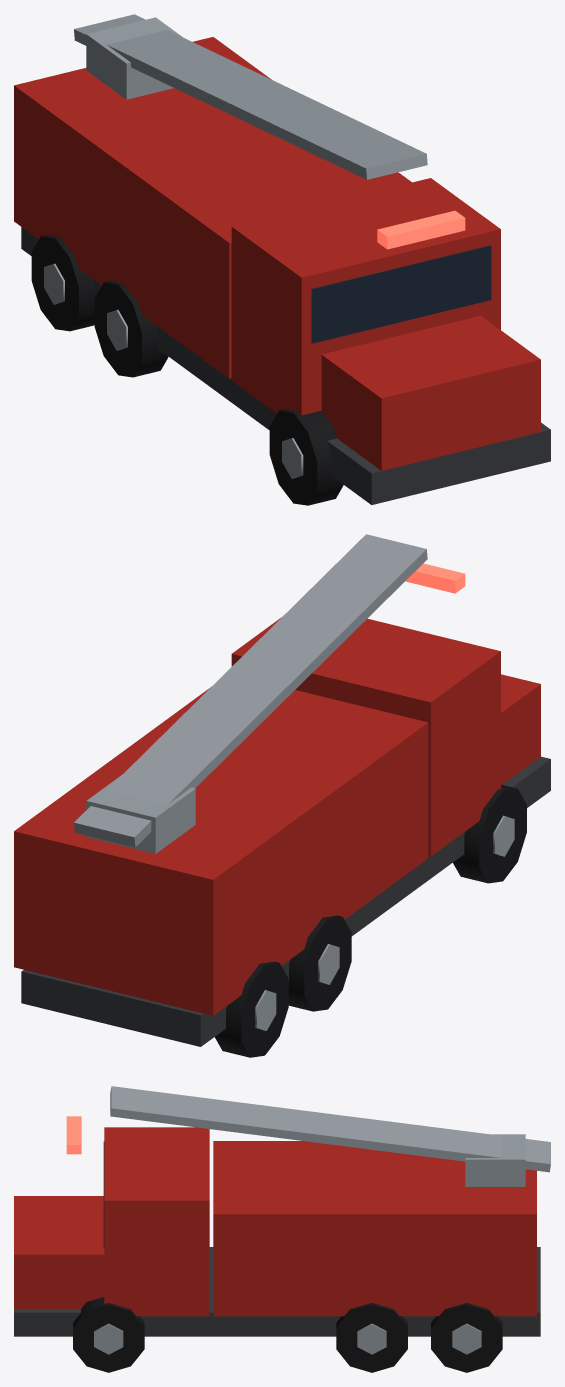
Rendered from veh_ground_fire_truck_a05.glb.
3 renders of one model, top to bottom at view 1: azimuth 30°, elevation 25°; view 2: azimuth 150°, elevation 25°; view 3: azimuth 270°, elevation 25°, orthographic. The views are drawn at different scales.
Visible parts, largest first — view 1: body, ladder, wheel_4, wheel_2, wheel_0; view 2: body, ladder, wheel_4, wheel_0, wheel_2; view 3: body, ladder, wheel_5, wheel_1, wheel_3.
Part boxes in pixels (x1=…): body: x1=14, y1=37, x2=550, y2=504; ladder: x1=74, y1=14, x2=427, y2=179; wheel_4: x1=269, y1=409, x2=343, y2=505; wheel_2: x1=94, y1=281, x2=168, y2=377; wheel_0: x1=31, y1=235, x2=94, y2=331; body: x1=14, y1=563, x2=550, y2=1046; ladder: x1=74, y1=534, x2=427, y2=853; wheel_4: x1=453, y1=784, x2=526, y2=883; wheel_0: x1=215, y1=961, x2=288, y2=1057; wheel_2: x1=288, y1=915, x2=351, y2=1011; body: x1=14, y1=1116, x2=540, y2=1336; ladder: x1=110, y1=1086, x2=550, y2=1186; wheel_5: x1=73, y1=1297, x2=144, y2=1372; wheel_1: x1=431, y1=1303, x2=502, y2=1372; wheel_3: x1=336, y1=1303, x2=407, y2=1372.
Size of what is drawn, in the model's own units: 2.46 by 3.48 by 7.14.
